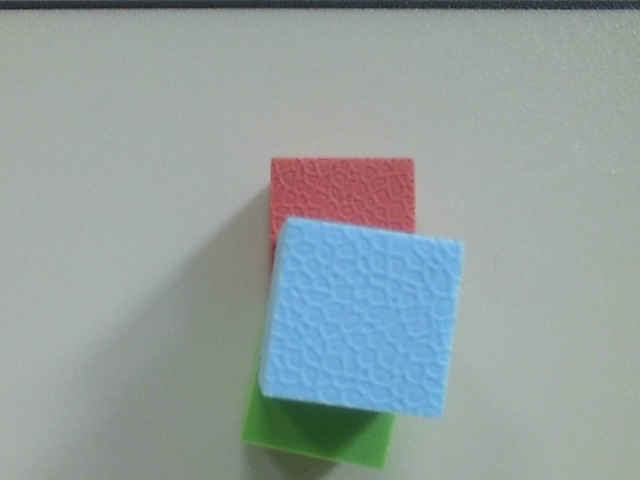greencube: (228, 315, 420, 478)
